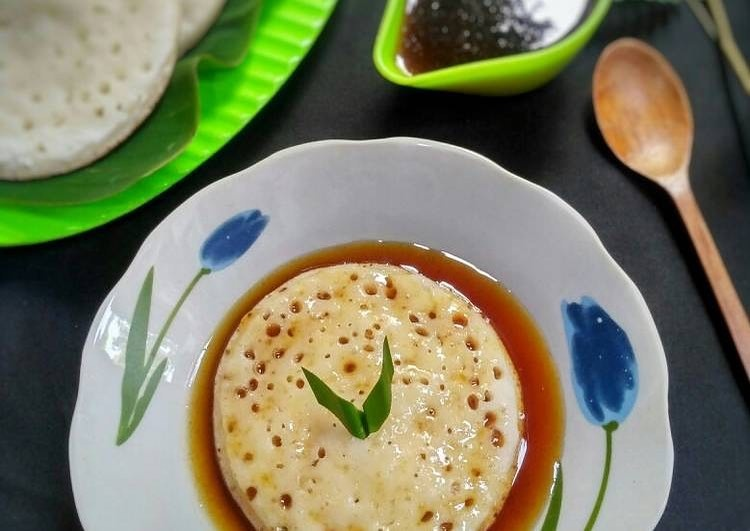srabi: (176, 250, 530, 525)
